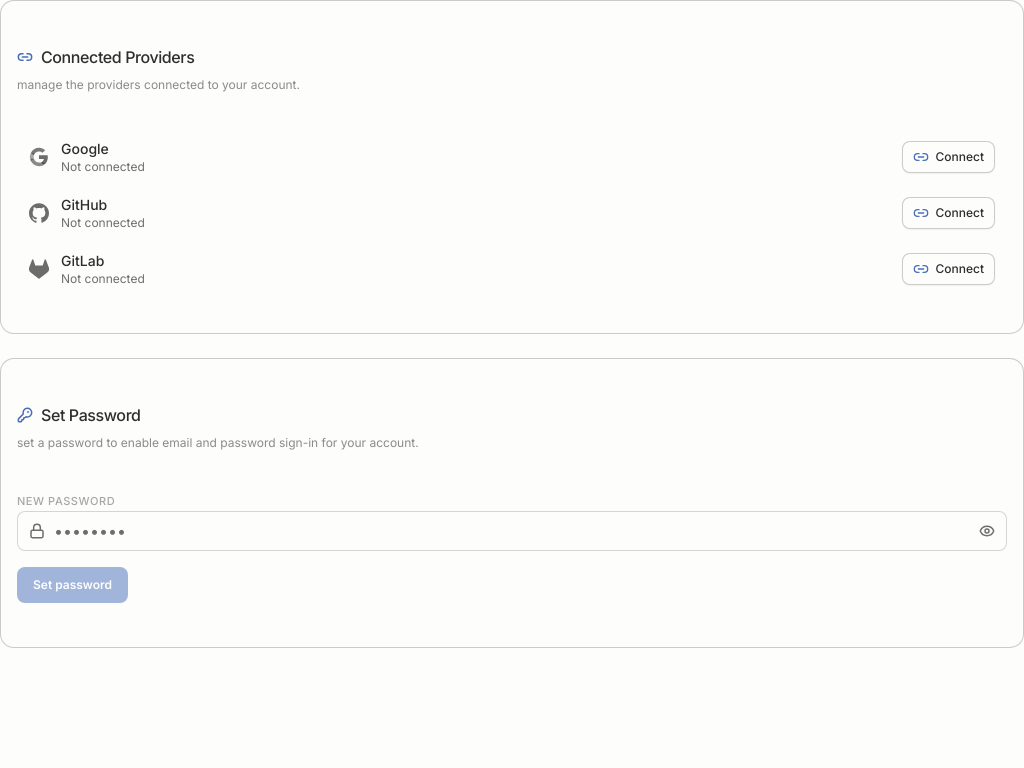
Test: AccountSection › shows a friendly message and lets the user retry when the entered code is wrong
The width and height of the screenshot is (1024, 768).
Type "hunter2222" into the password field labelled "New Password" at [512, 531], box [17,511,1007,551]
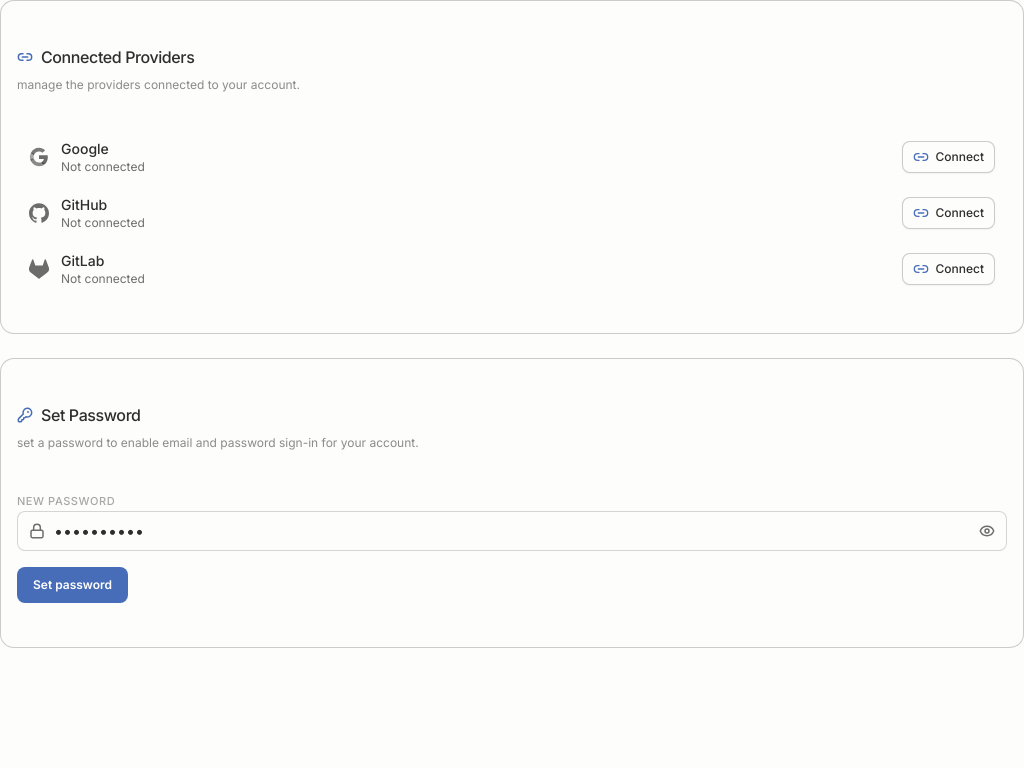
Click the button "Set password" at [72, 585], box [17,567,128,603]
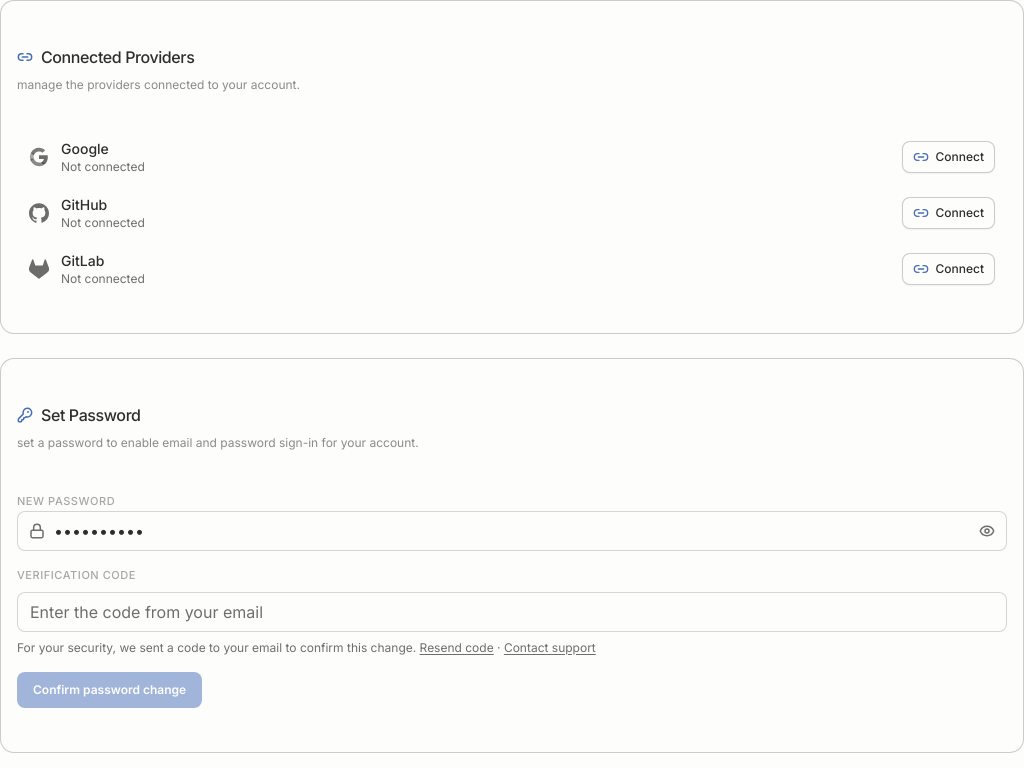
Type "wrong" into the field labelled "Verification code" at [512, 612], box [17,592,1007,632]
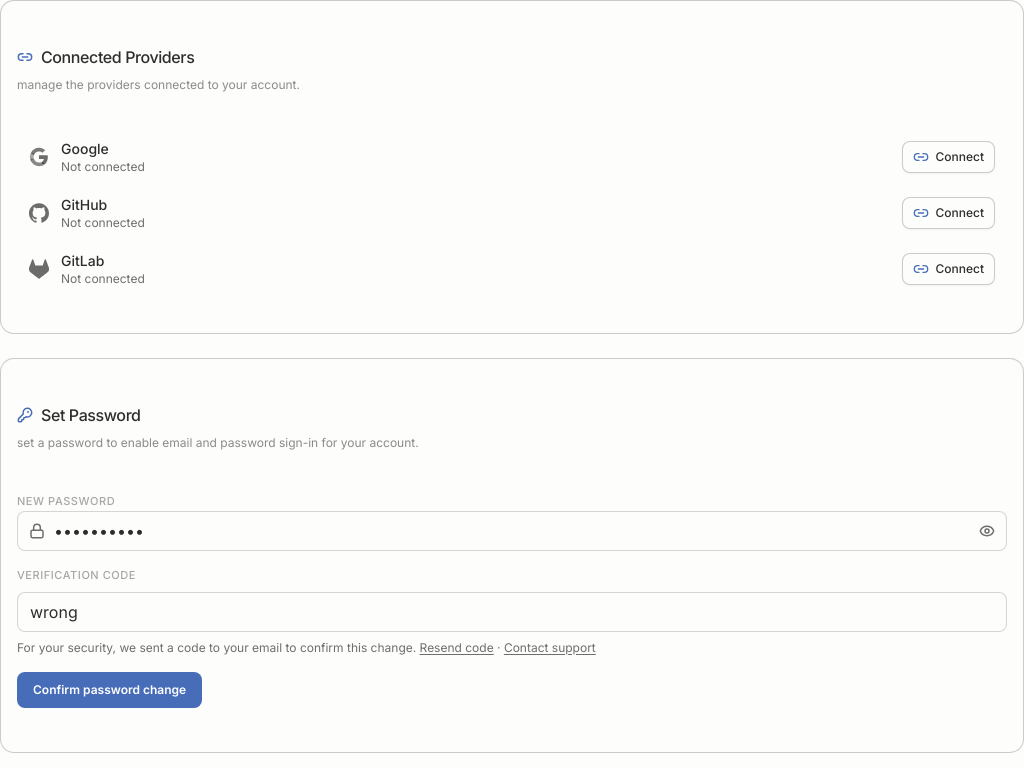
Click the button "Confirm password change" at [110, 690], box [17,672,202,708]
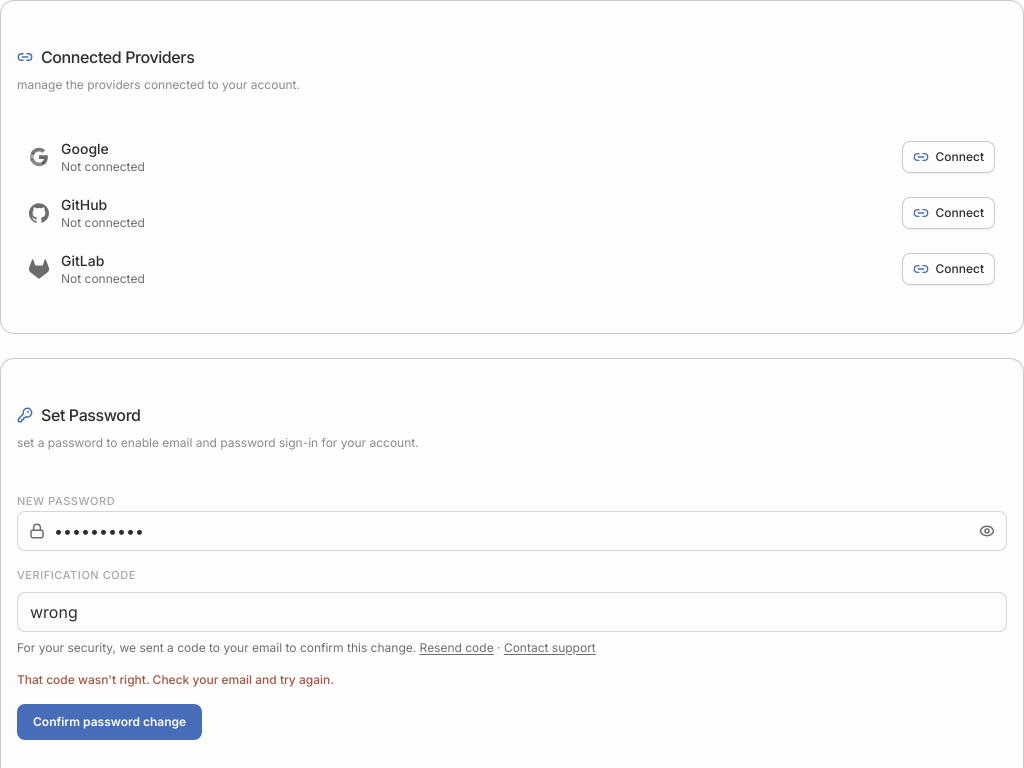
expect the text "That code wasn't right. Check your email and try again." is shown: met, box [17,672,334,686]
